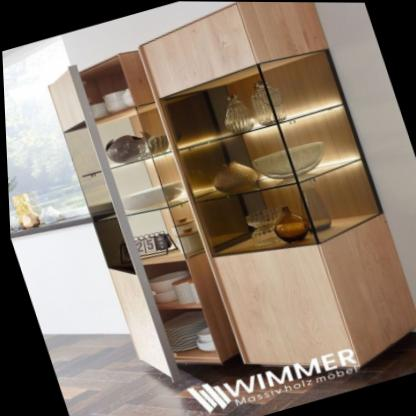Cupboard: (47, 1, 416, 382)
